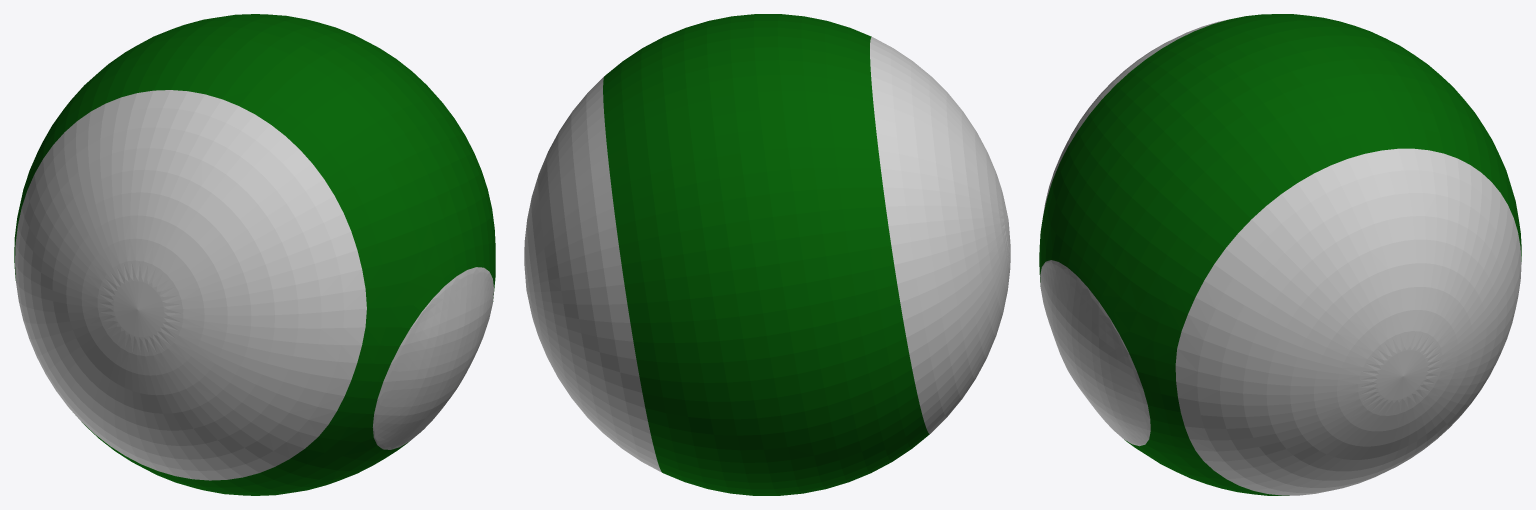
The model's file is 14_ball.obj.
3 views of the same model, side by side, from view 1: azimuth 30°, elevation 25°; view 2: azimuth 150°, elevation 25°; view 3: azimuth 270°, elevation 25° (orthographic).
Visible parts, largest first — view 1: Stripe.002; view 2: Stripe.002; view 3: Stripe.002.
Boxes of the visible parts, box(x1,y1,x2,y2) form: Stripe.002: box(14, 14, 495, 495); Stripe.002: box(524, 14, 1010, 495); Stripe.002: box(1039, 14, 1521, 495).
Size of the model in its own units: 0.0789 by 0.0785 by 0.0787.
